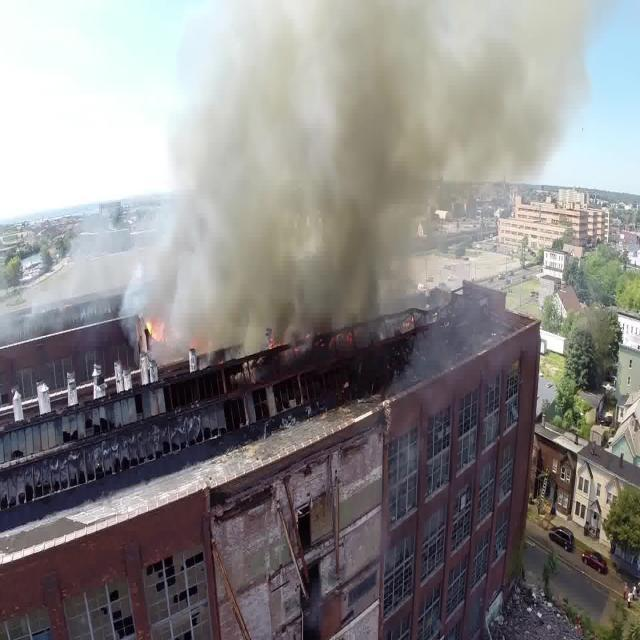Smoke: (88, 8, 591, 350)
